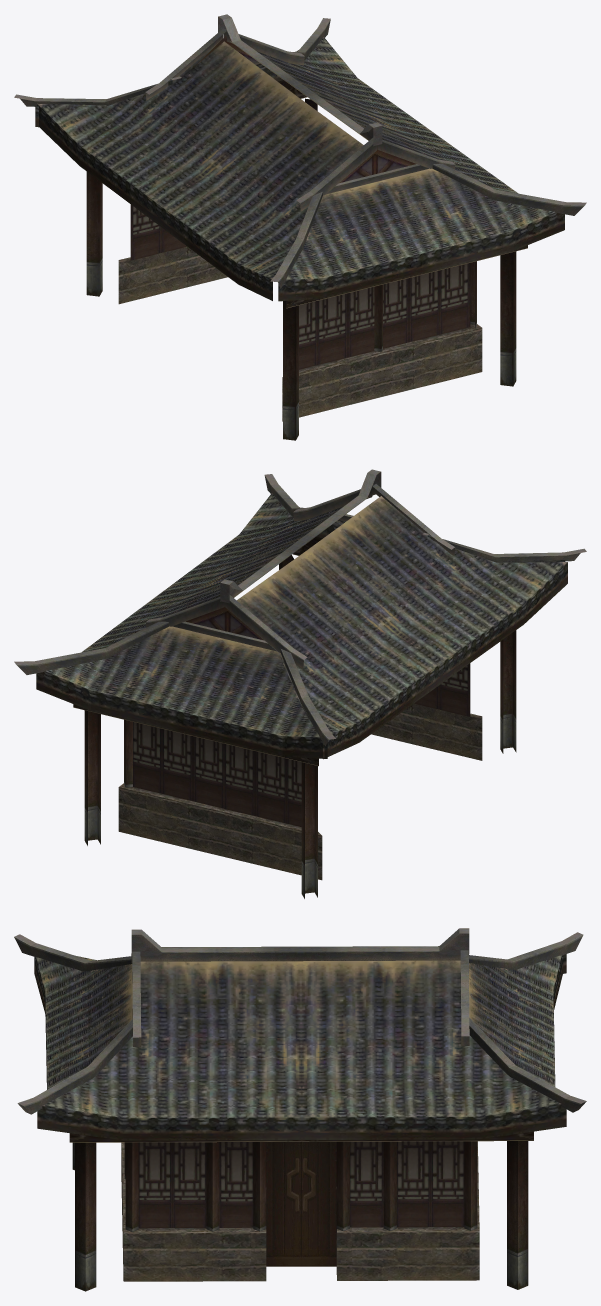
Rendered from SC001Jjianzhu_13.FBX.
The picture shows the model from 3 angles, top to bottom: view 1: azimuth 30°, elevation 25°; view 2: azimuth 150°, elevation 25°; view 3: azimuth 270°, elevation 25°; orthographic projection. The views are drawn at different scales.
Parts seen in each view (by area): view 1: SC001Jjianzhu_13; view 2: SC001Jjianzhu_13; view 3: SC001Jjianzhu_13.
Part boxes in pixels (box(x1,y1,x2,y2)): SC001Jjianzhu_13: box(14, 14, 586, 440); SC001Jjianzhu_13: box(14, 469, 586, 898); SC001Jjianzhu_13: box(14, 928, 586, 1291).
Bounding box in the file's own units: 5.05 × 4.01 × 7.04.
